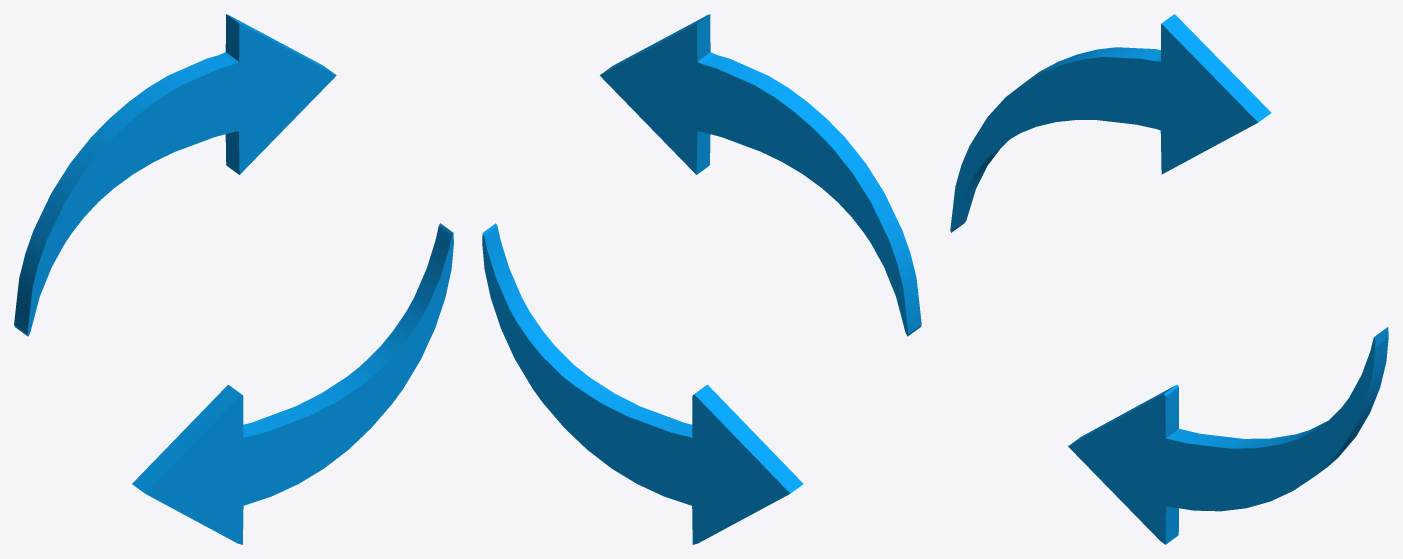
The model's file is rotate.glb.
3 views of the same model, side by side, from view 1: azimuth 30°, elevation 25°; view 2: azimuth 150°, elevation 25°; view 3: azimuth 330°, elevation 25° (orthographic).
Visible parts, largest first — view 1: Curve; view 2: Curve; view 3: Curve.
Part boxes in pixels (box(x1,y1,x2,y2)): Curve: box(14, 14, 453, 544); Curve: box(482, 14, 921, 544); Curve: box(950, 14, 1388, 544).
Size of the model in its own units: 2.83 by 3.31 by 0.158.
